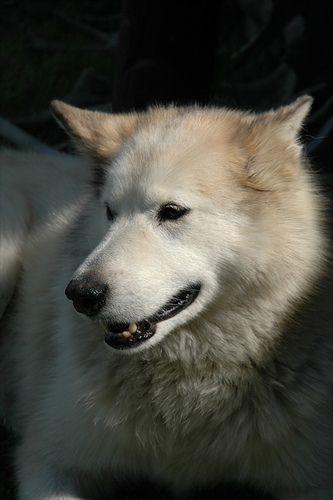dog: (0, 92, 331, 498)
